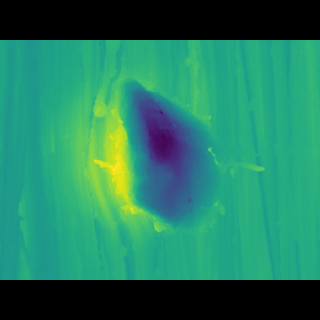Loch: (87, 92, 231, 224)
